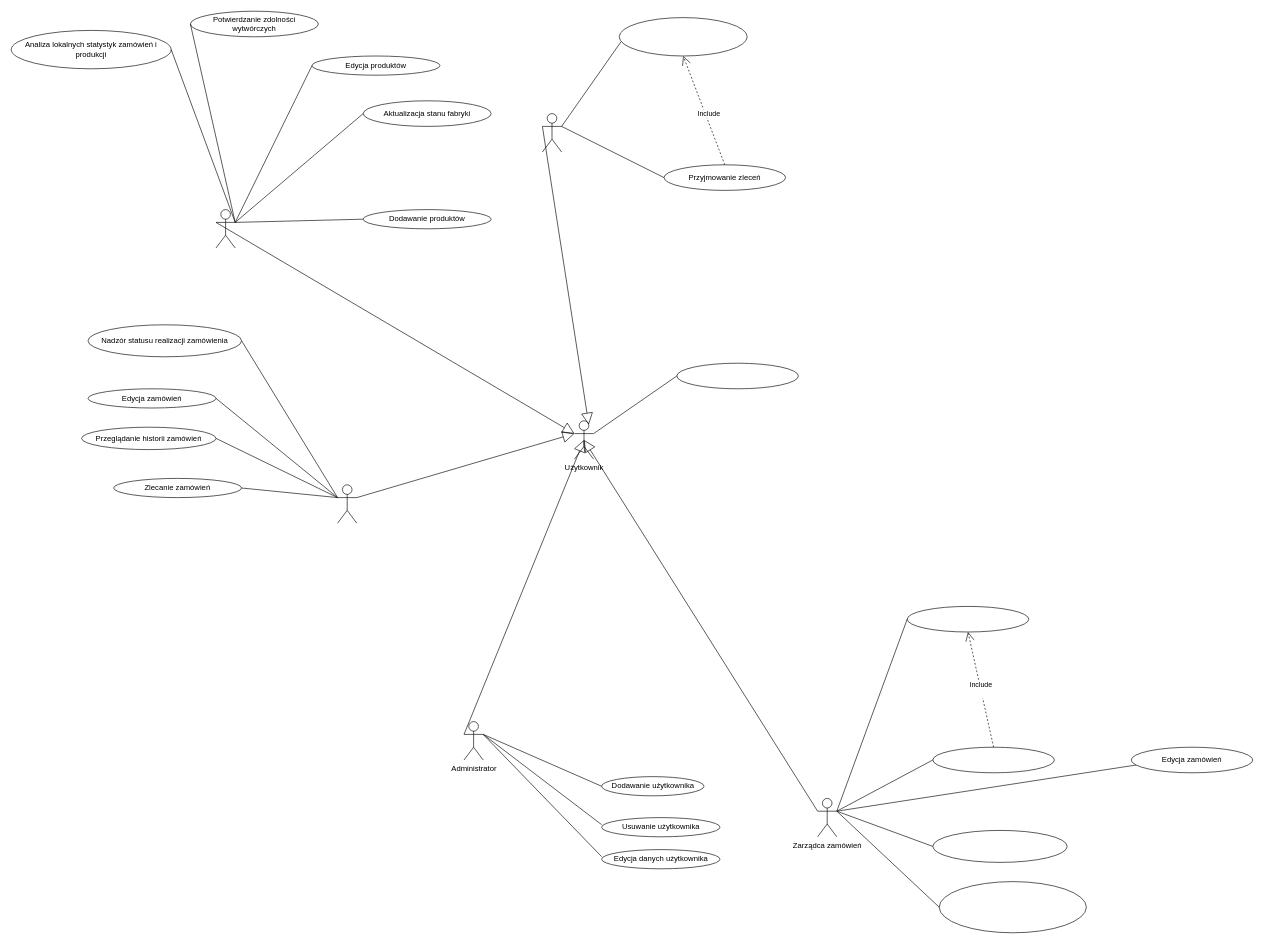
Some shapes in this 1264 by 944 pixel diagram are drawn without their labels. The shapes that lost their labels are listed below. From the top down, each one's box as (x1, y1, x2, y2) in pixels, then its label:
(619, 17, 747, 56): Potwierdzanie zdolności transportowych
(542, 113, 562, 152): Przewoźnik
(215, 209, 235, 248): Zarządca fabryki
(676, 363, 798, 389): Logowanie
(337, 484, 357, 523): Klient
(907, 606, 1029, 632): Przyjmowanie zamówień
(932, 747, 1054, 773): Wybór przewoźnika
(932, 830, 1067, 862): Nadzór stanu fabryk
(939, 881, 1086, 933): Analiza globalnych statystyk zamówień i produkcji
